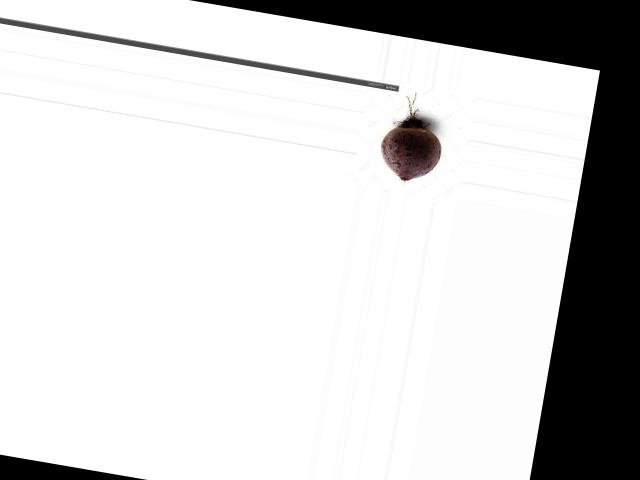beet: (375, 87, 450, 186)
